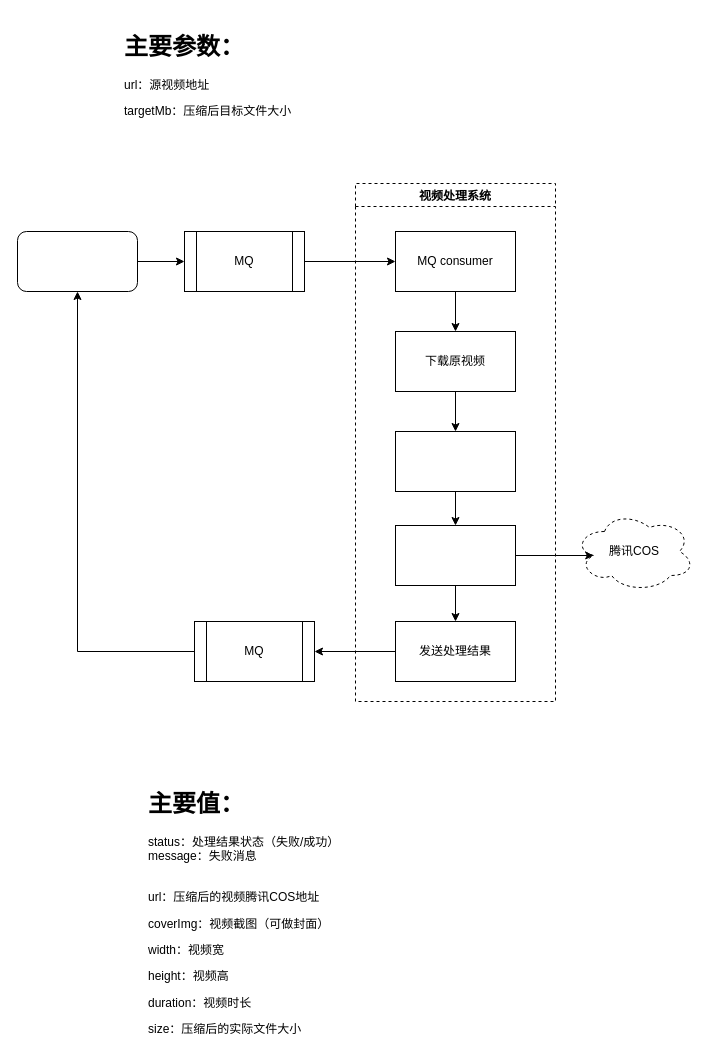
Image size: 712x1061. Some labels were removed from this diagram. The box of each missing label's shape, as (x1, y1, x2, y2) in pixels:
上传视频: (394, 524, 516, 586)
压缩视频: (394, 430, 516, 492)
待对接系统: (16, 230, 138, 292)
